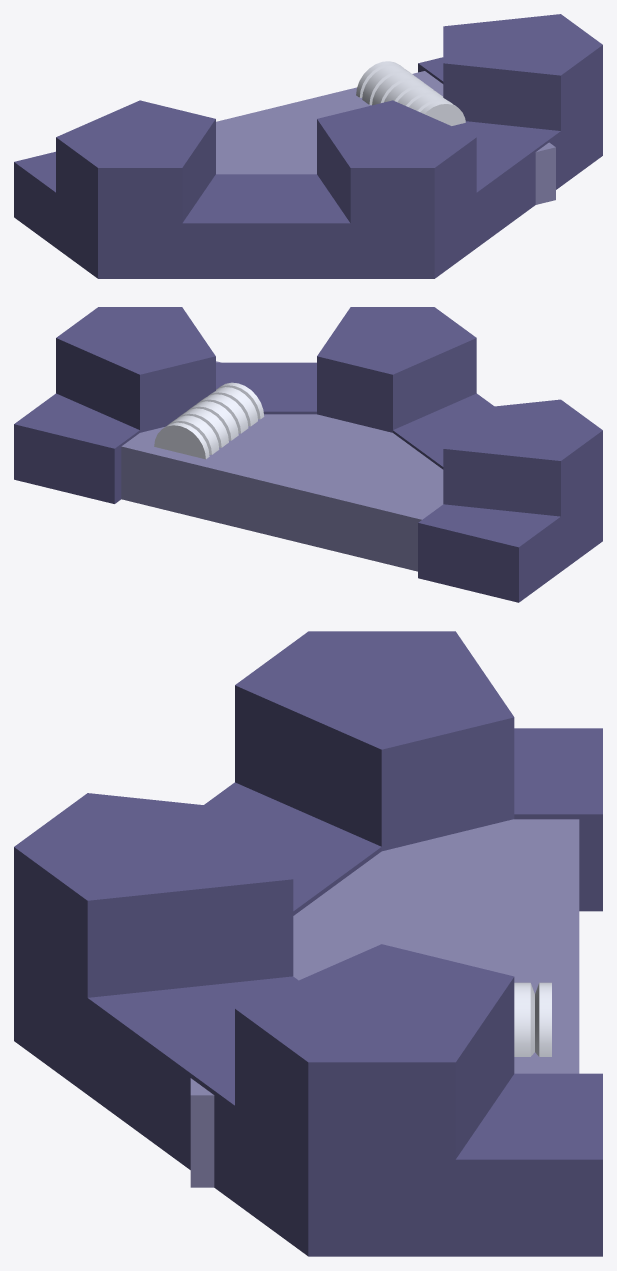
Rendered from BadBed.fbx.
The picture shows the model from 3 angles, top to bottom: view 1: azimuth 30°, elevation 25°; view 2: azimuth 150°, elevation 25°; view 3: azimuth 270°, elevation 25°; orthographic projection. The views are drawn at different scales.
Visible parts, largest first — view 1: mergedBlocks; view 2: mergedBlocks; view 3: mergedBlocks.
Boxes of the visible parts, <box> form: mergedBlocks: <box>14,14,602,278</box>; mergedBlocks: <box>14,307,602,602</box>; mergedBlocks: <box>14,631,602,1256</box>.
Size of the model in its own units: 10 by 2.1 by 5.77.
